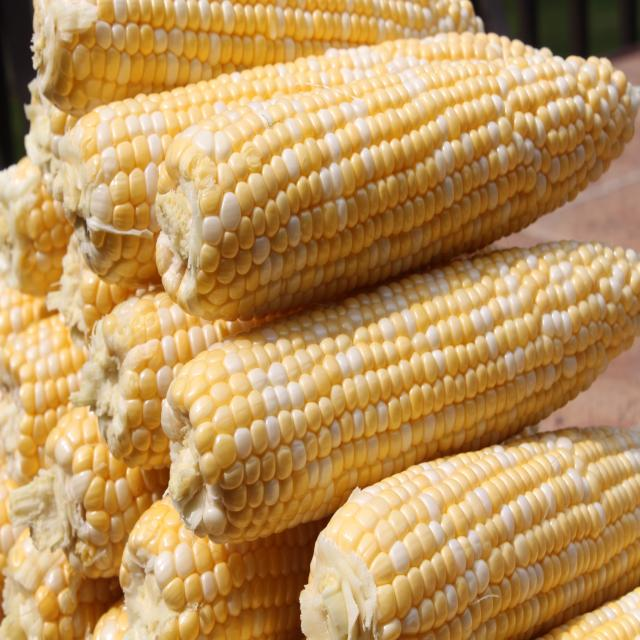corn: (176, 243, 636, 551), (164, 65, 636, 318), (304, 428, 638, 632)
